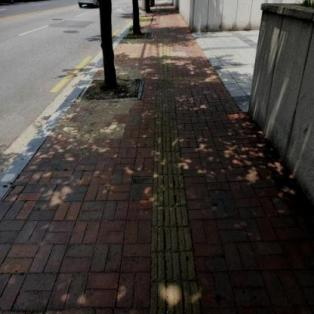Podoctatil: (149, 23, 198, 312)
